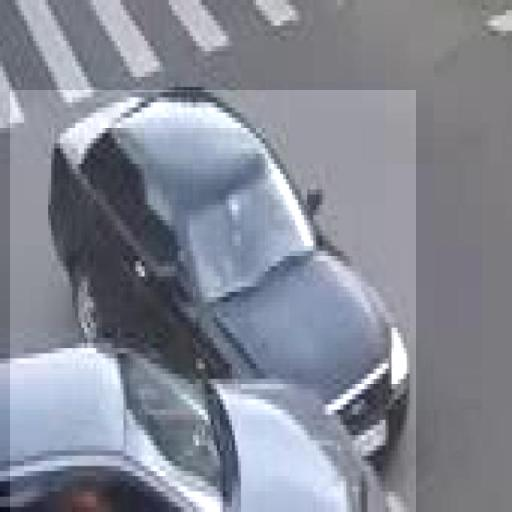小汽车撞小汽车: (10, 90, 416, 512)
